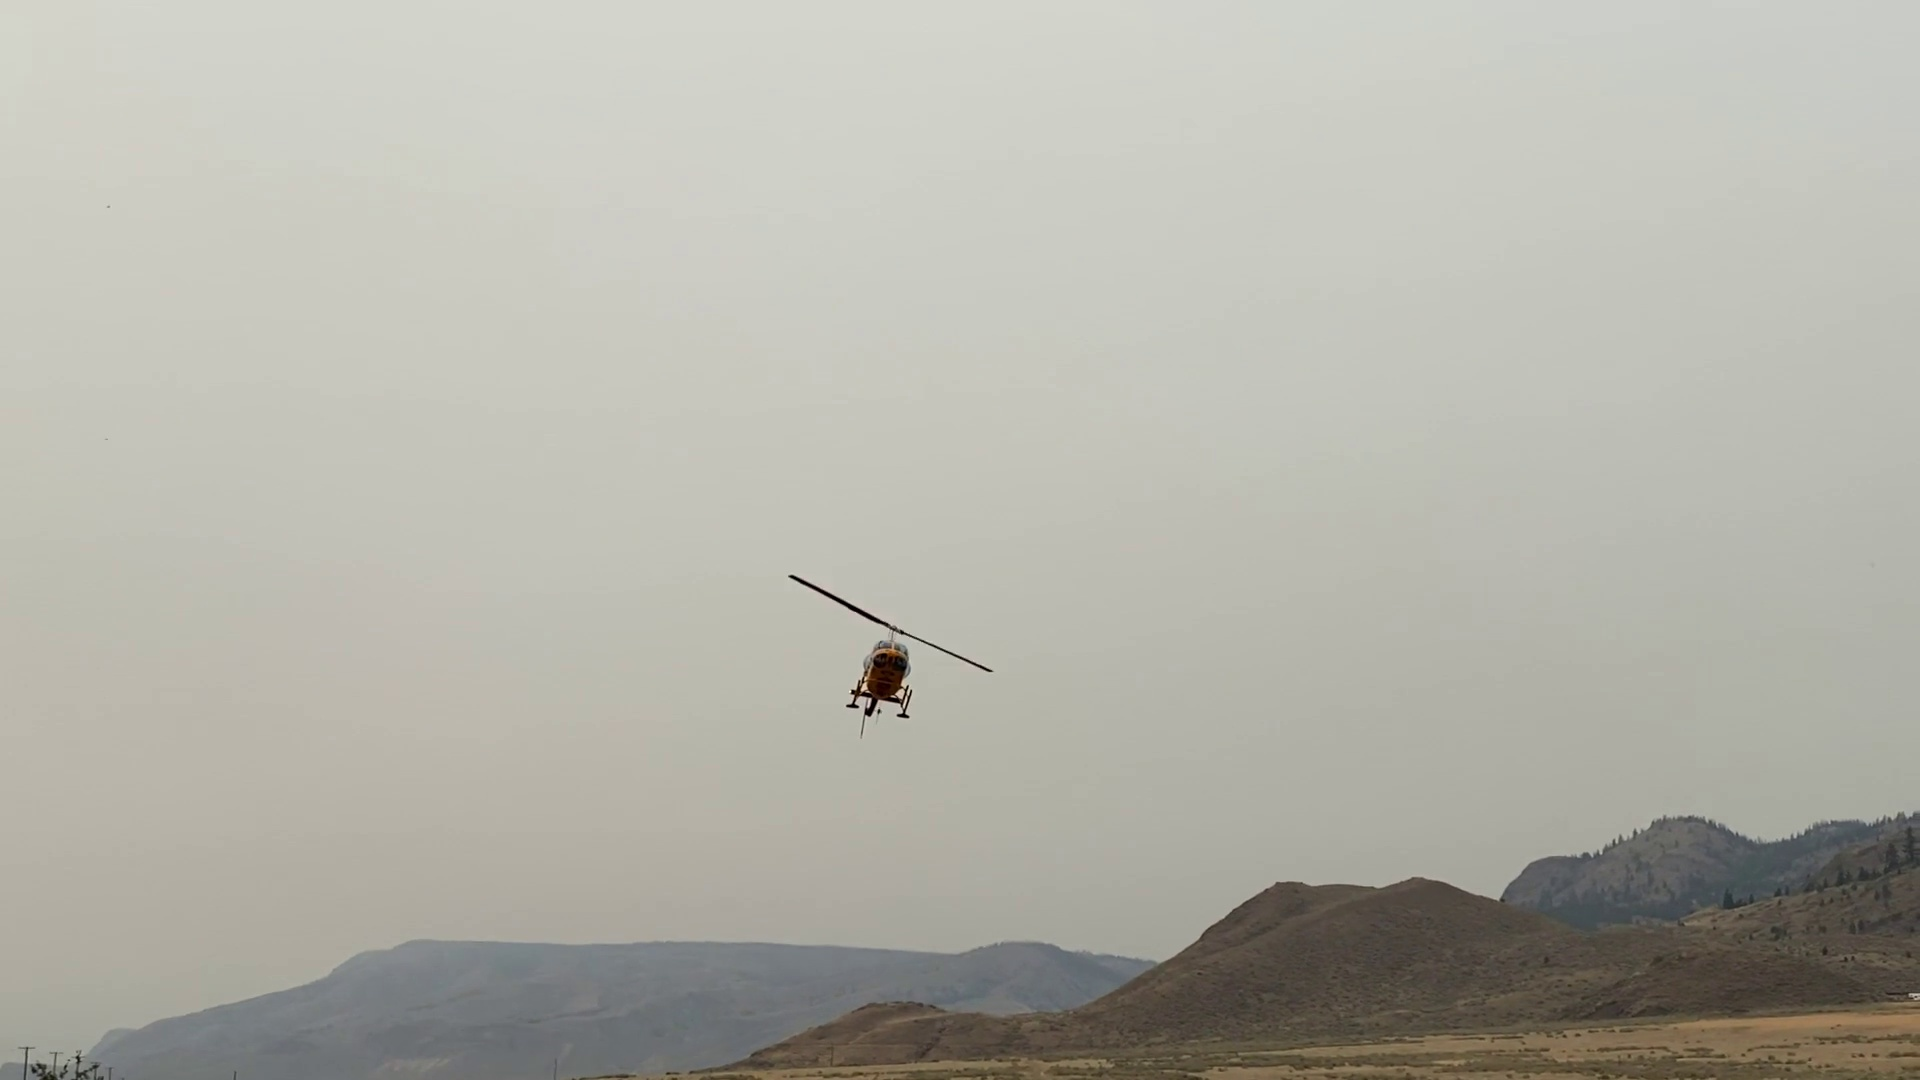heli: (790, 574, 997, 717)
